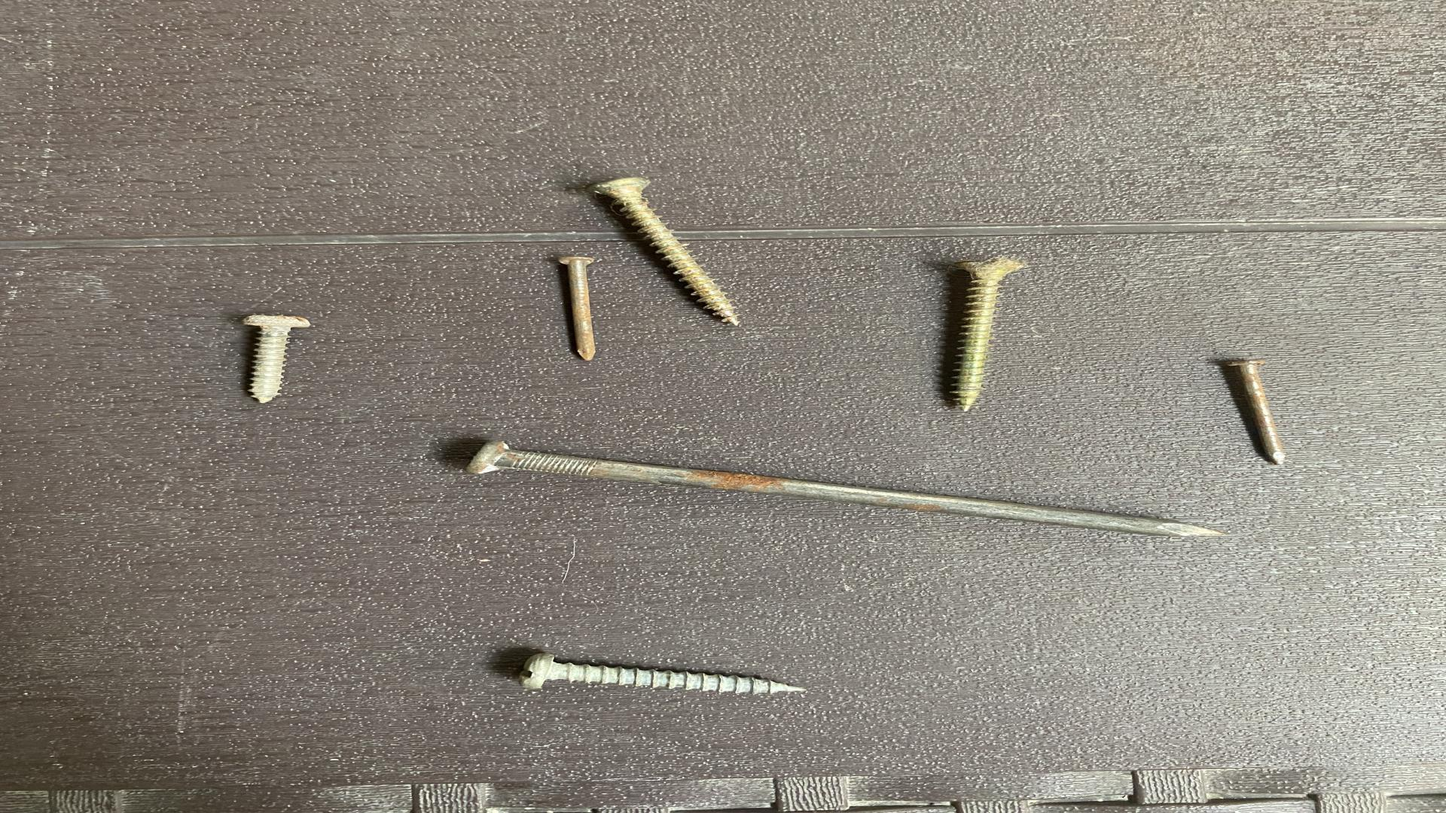nail: (366, 438, 1238, 560), (1167, 349, 1339, 476), (524, 236, 614, 366)
screw: (564, 162, 815, 327), (921, 245, 1062, 430), (481, 642, 844, 707), (213, 302, 337, 407)
